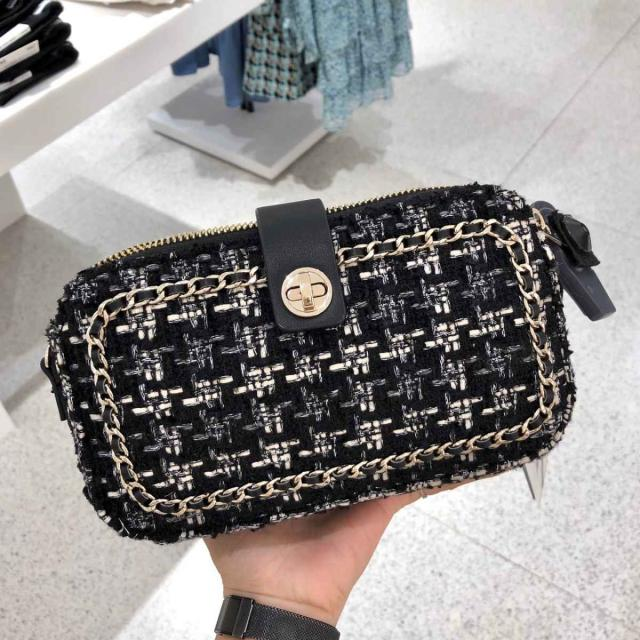Handbag: (43, 171, 589, 551)
